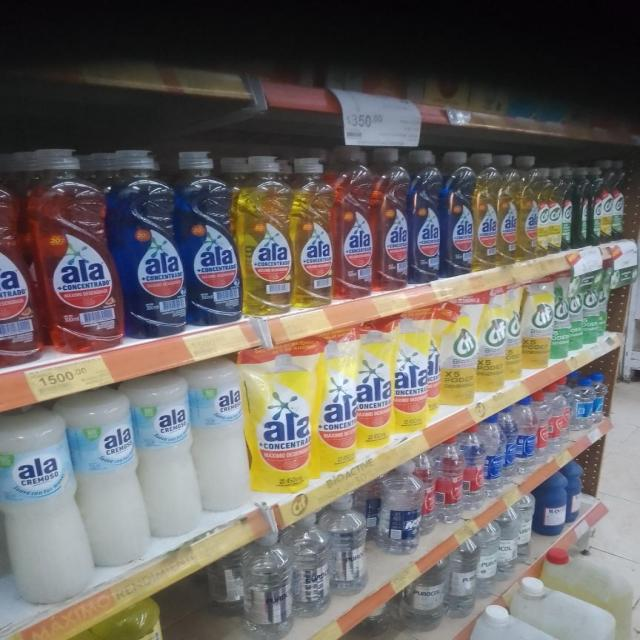ala_conc_amarillo: (240, 154, 292, 316), (293, 156, 334, 308), (474, 154, 497, 270), (498, 157, 518, 266), (518, 165, 537, 261)
ala_conc_azul: (118, 148, 183, 337), (183, 150, 239, 326), (410, 150, 442, 284), (443, 150, 473, 277)
ala_conc_rojo: (37, 149, 117, 354), (0, 156, 36, 370), (335, 149, 375, 300), (376, 148, 409, 291)
ala_crem_blanco: (0, 410, 79, 607), (73, 389, 140, 573), (136, 374, 194, 546), (192, 356, 247, 517)
ala_sachet_amarillo: (249, 339, 313, 495), (315, 327, 357, 474), (394, 309, 436, 433), (357, 319, 393, 449), (439, 300, 476, 406)
cif_conc_bot_amarilla: (546, 169, 561, 255)
cif_conc_botella_verde: (574, 166, 590, 248), (610, 163, 626, 242), (590, 166, 604, 246), (562, 168, 574, 252)
cif_conc_sachet_verde: (584, 265, 606, 348), (552, 271, 570, 360), (570, 266, 584, 353)
